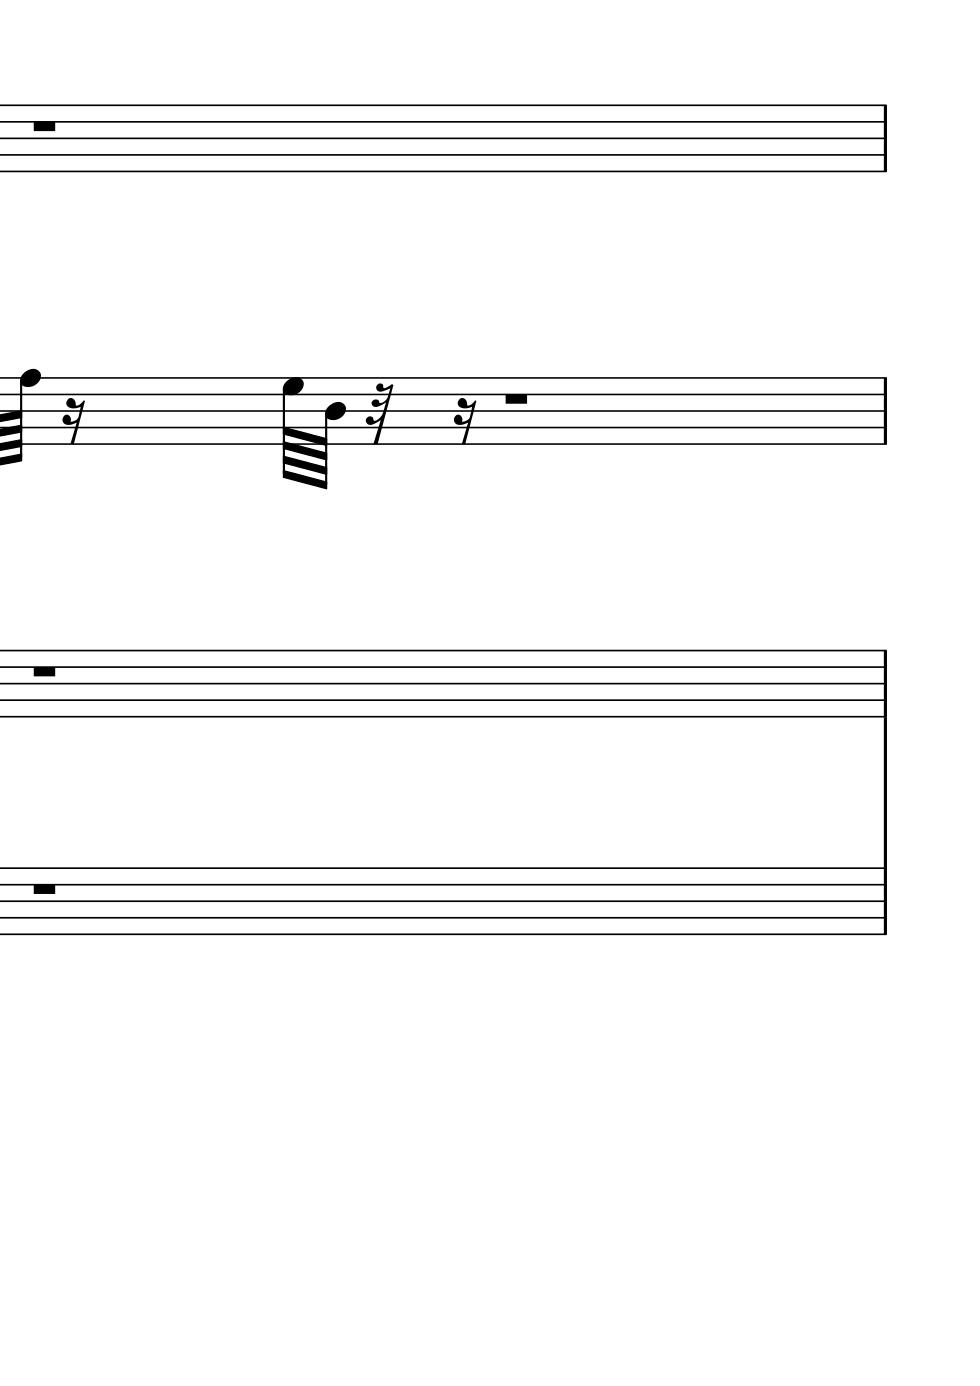64_4: (314, 374, 347, 492)
64_7: (280, 375, 305, 483)
64_8: (6, 368, 39, 467)
Rests1: (27, 879, 60, 899), (27, 662, 60, 680), (28, 117, 60, 135), (500, 390, 531, 408)
Rests16: (452, 396, 478, 448), (62, 396, 86, 446)
Rests32: (364, 381, 393, 448)
Single_barline: (876, 105, 893, 172), (876, 378, 893, 444), (876, 869, 893, 934), (876, 651, 893, 716)
